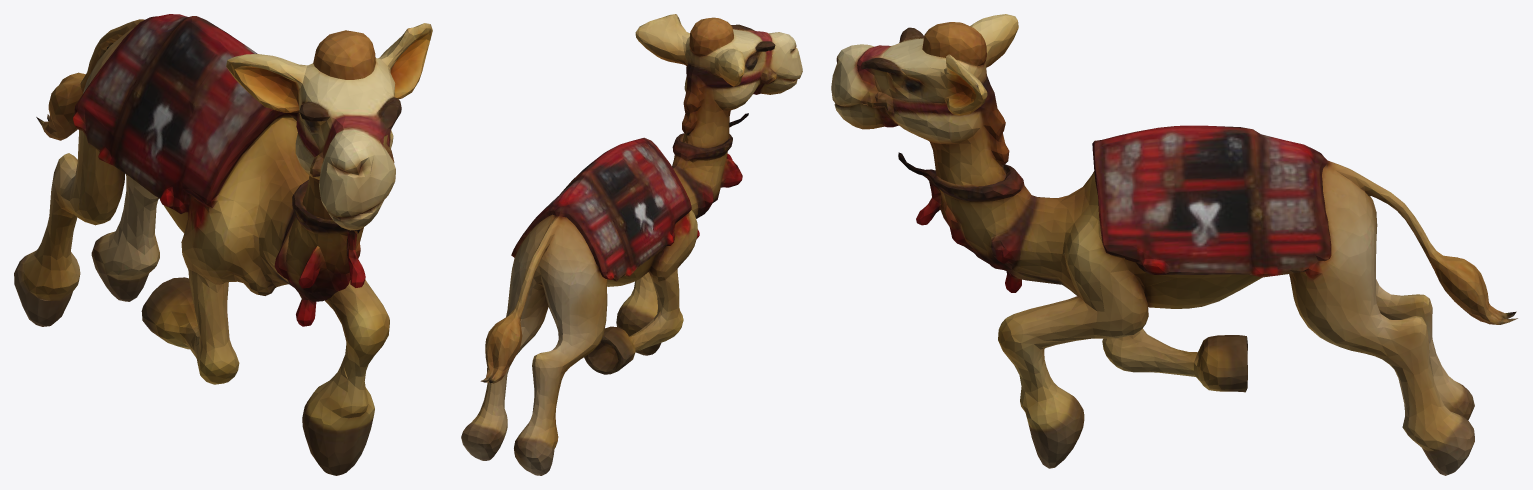
Rendered from sam_camel.glb.
The picture shows the model from 3 angles, left to right: view 1: azimuth 30°, elevation 25°; view 2: azimuth 150°, elevation 25°; view 3: azimuth 270°, elevation 25°; orthographic projection. The views are drawn at different scales.
Parts seen in each view (by area): view 1: geometry_0; view 2: geometry_0; view 3: geometry_0.
Part boxes in pixels (x1,y1,x2,y2): geometry_0: [14, 14, 432, 475]; geometry_0: [461, 14, 802, 475]; geometry_0: [831, 14, 1517, 475].
Size of the model in its own units: 0.2681 by 0.6777 by 0.9937.
Materials: 1 (1 with a texture image).
